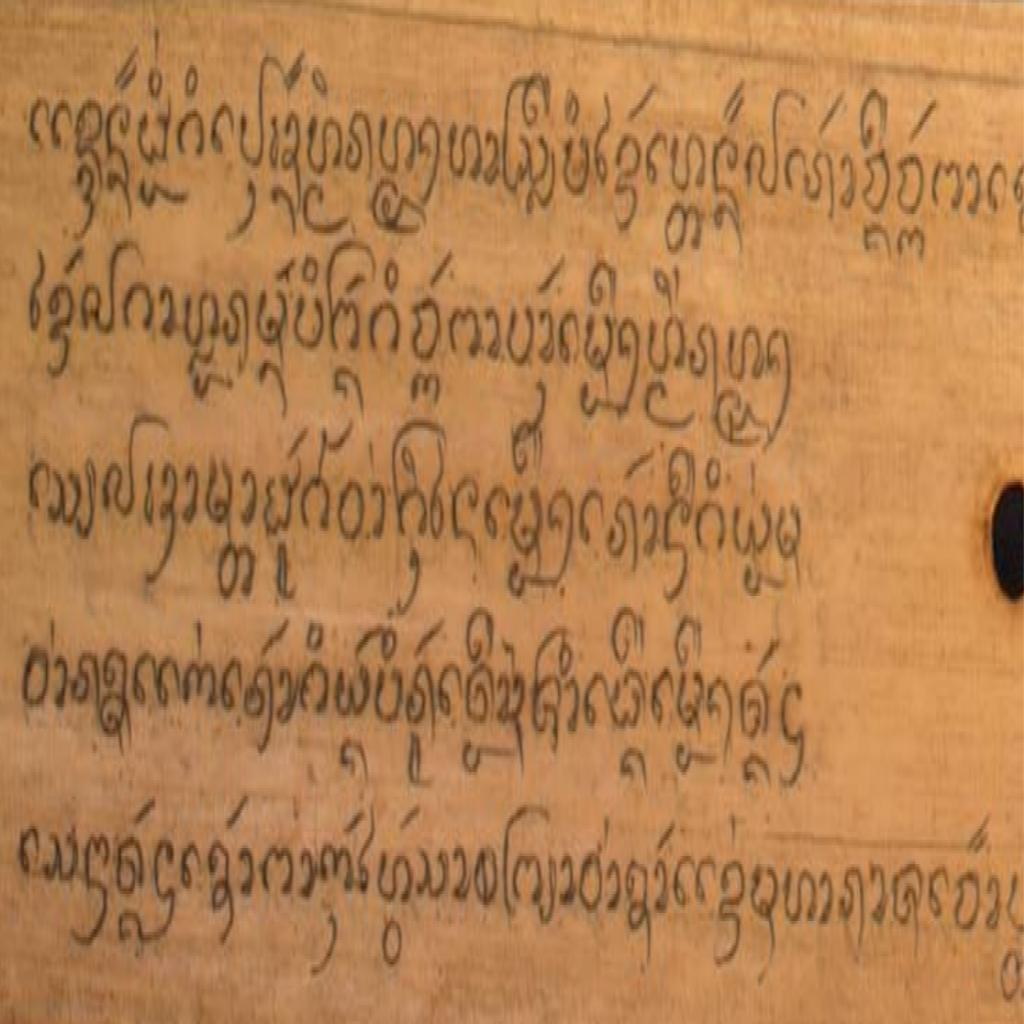LN002: (207, 835, 235, 929)
LN038: (416, 843, 451, 908)
LN039: (376, 846, 416, 911)
